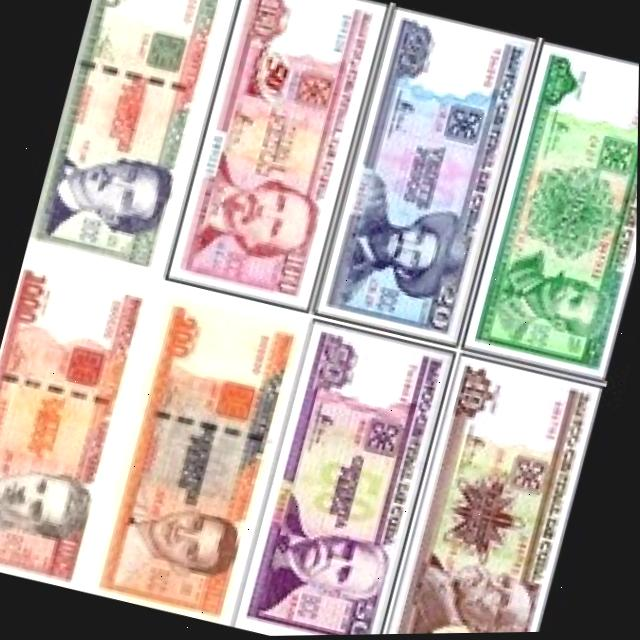banknote: (87, 287, 308, 626), (316, 6, 532, 345), (168, 0, 388, 313), (241, 321, 457, 637), (385, 358, 600, 635), (463, 39, 639, 377), (30, 0, 238, 279), (0, 254, 152, 586)
